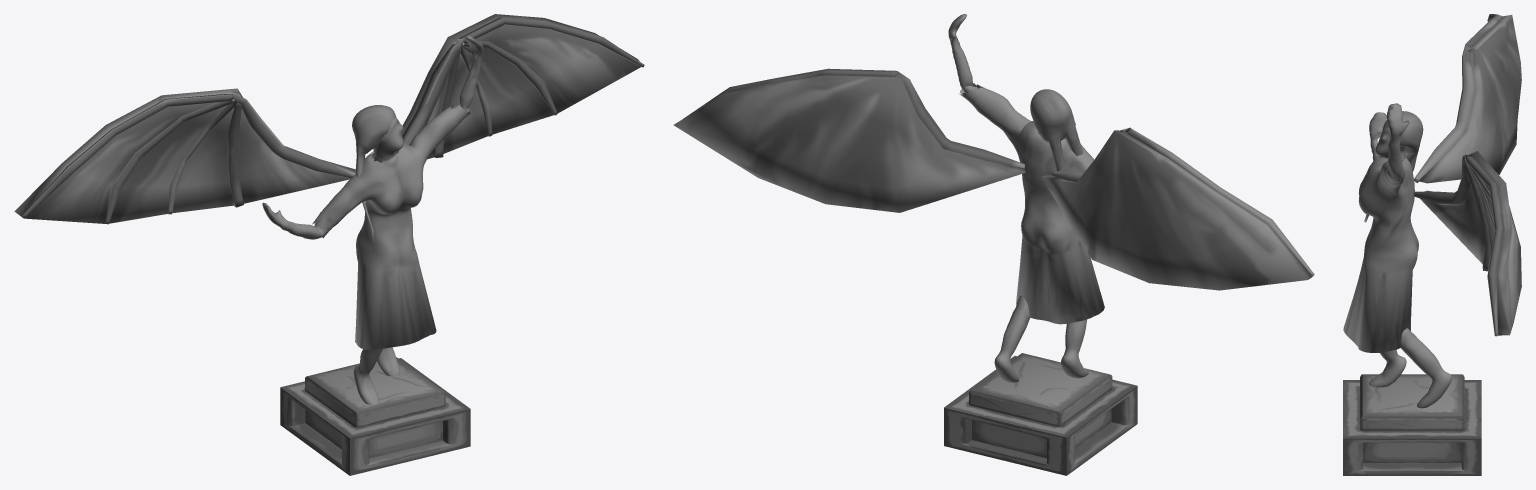
The model's file is Angel_Zyzz.obj.
3 views of the same model, side by side, from view 1: azimuth 30°, elevation 25°; view 2: azimuth 150°, elevation 25°; view 3: azimuth 270°, elevation 25° (orthographic). The views are drawn at different scales.
Visible parts, largest first — view 1: Statue_Stand.003; view 2: Statue_Stand.003; view 3: Statue_Stand.003.
Boxes of the visible parts, bbox=[...] form: Statue_Stand.003: bbox=[14, 14, 644, 475]; Statue_Stand.003: bbox=[673, 14, 1314, 475]; Statue_Stand.003: bbox=[1343, 14, 1521, 475].
Size of the model in its own units: 39.37 by 23.25 by 9.83.
